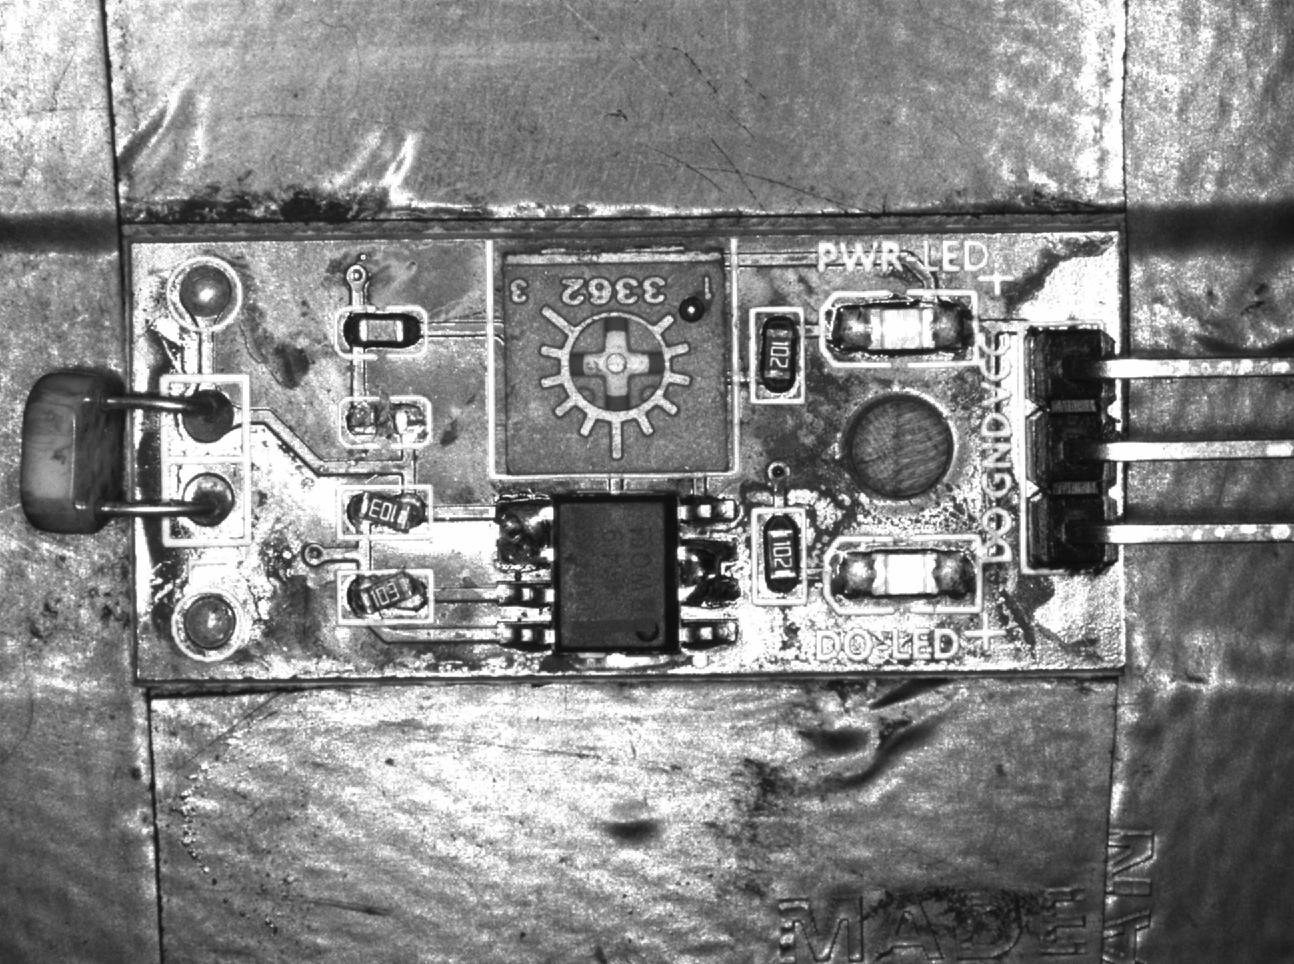bridge: (679, 534, 741, 609), (491, 496, 553, 569)
lifted: (339, 570, 434, 622), (337, 488, 432, 536)
miss: (339, 398, 430, 447)
ok: (753, 309, 804, 404), (755, 509, 807, 597), (335, 308, 428, 354)
